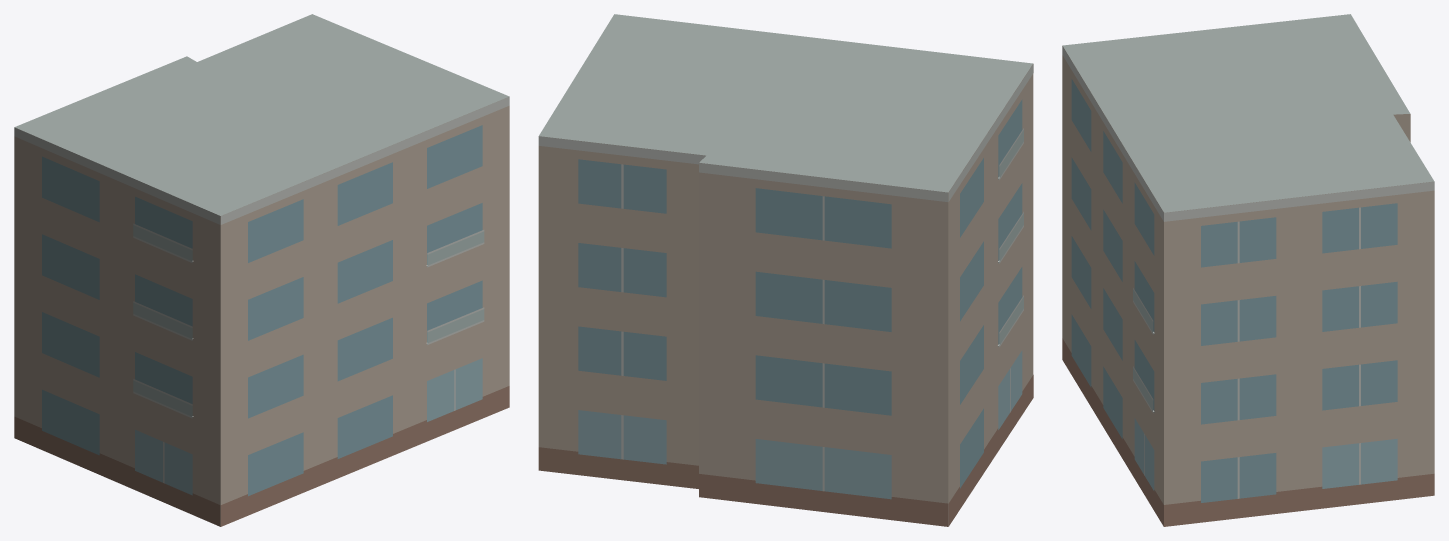
Rendered from survey-upis-32822984.glb.
3 renders of one model, left to right at view 1: azimuth 30°, elevation 25°; view 2: azimuth 150°, elevation 25°; view 3: azimuth 270°, elevation 25°, orthographic. The views are drawn at different scales.
Visible parts, largest first — view 1: survey-upis-32822984.tmp; view 2: survey-upis-32822984.tmp; view 3: survey-upis-32822984.tmp.
Part boxes in pixels (<box>): survey-upis-32822984.tmp: <box>14,14,509,526</box>; survey-upis-32822984.tmp: <box>538,14,1033,526</box>; survey-upis-32822984.tmp: <box>1062,14,1434,526</box>.
Size of the model in its own units: 11.41 by 8.4 by 9.03.
